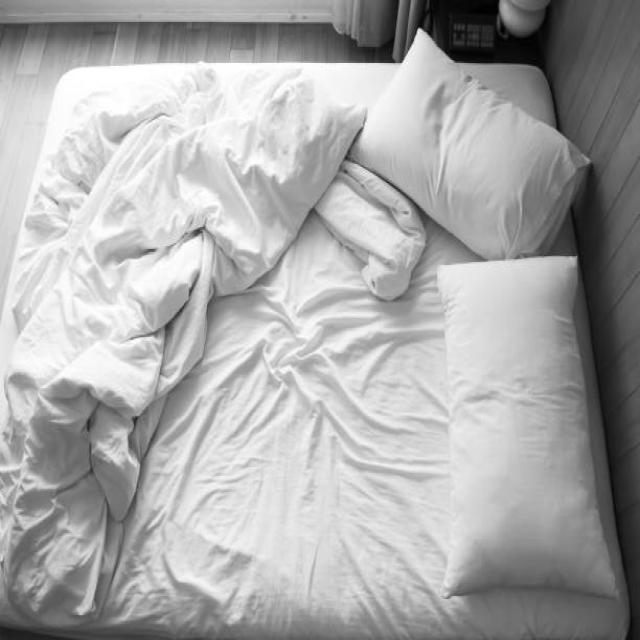bed: (18, 56, 601, 626)
